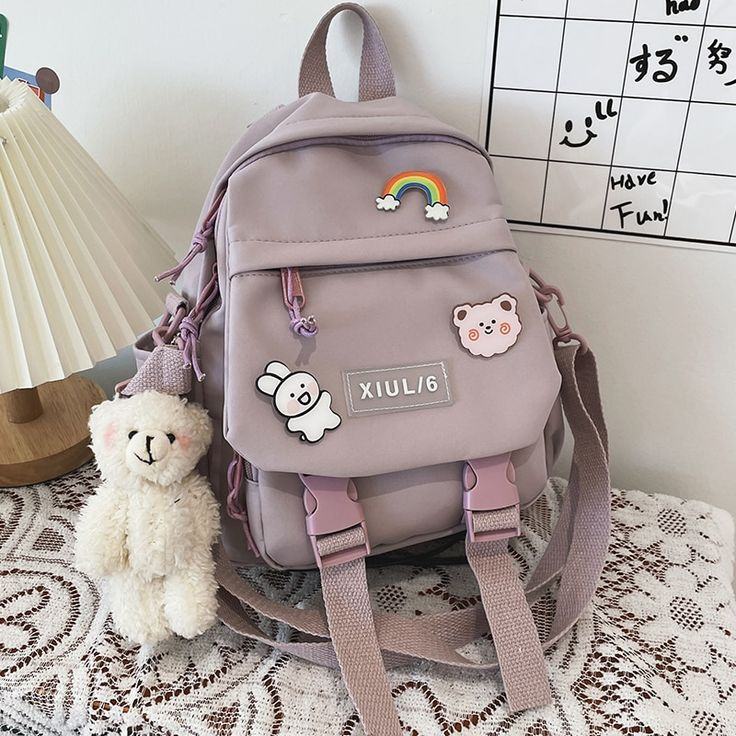nylon: (135, 2, 612, 736)
